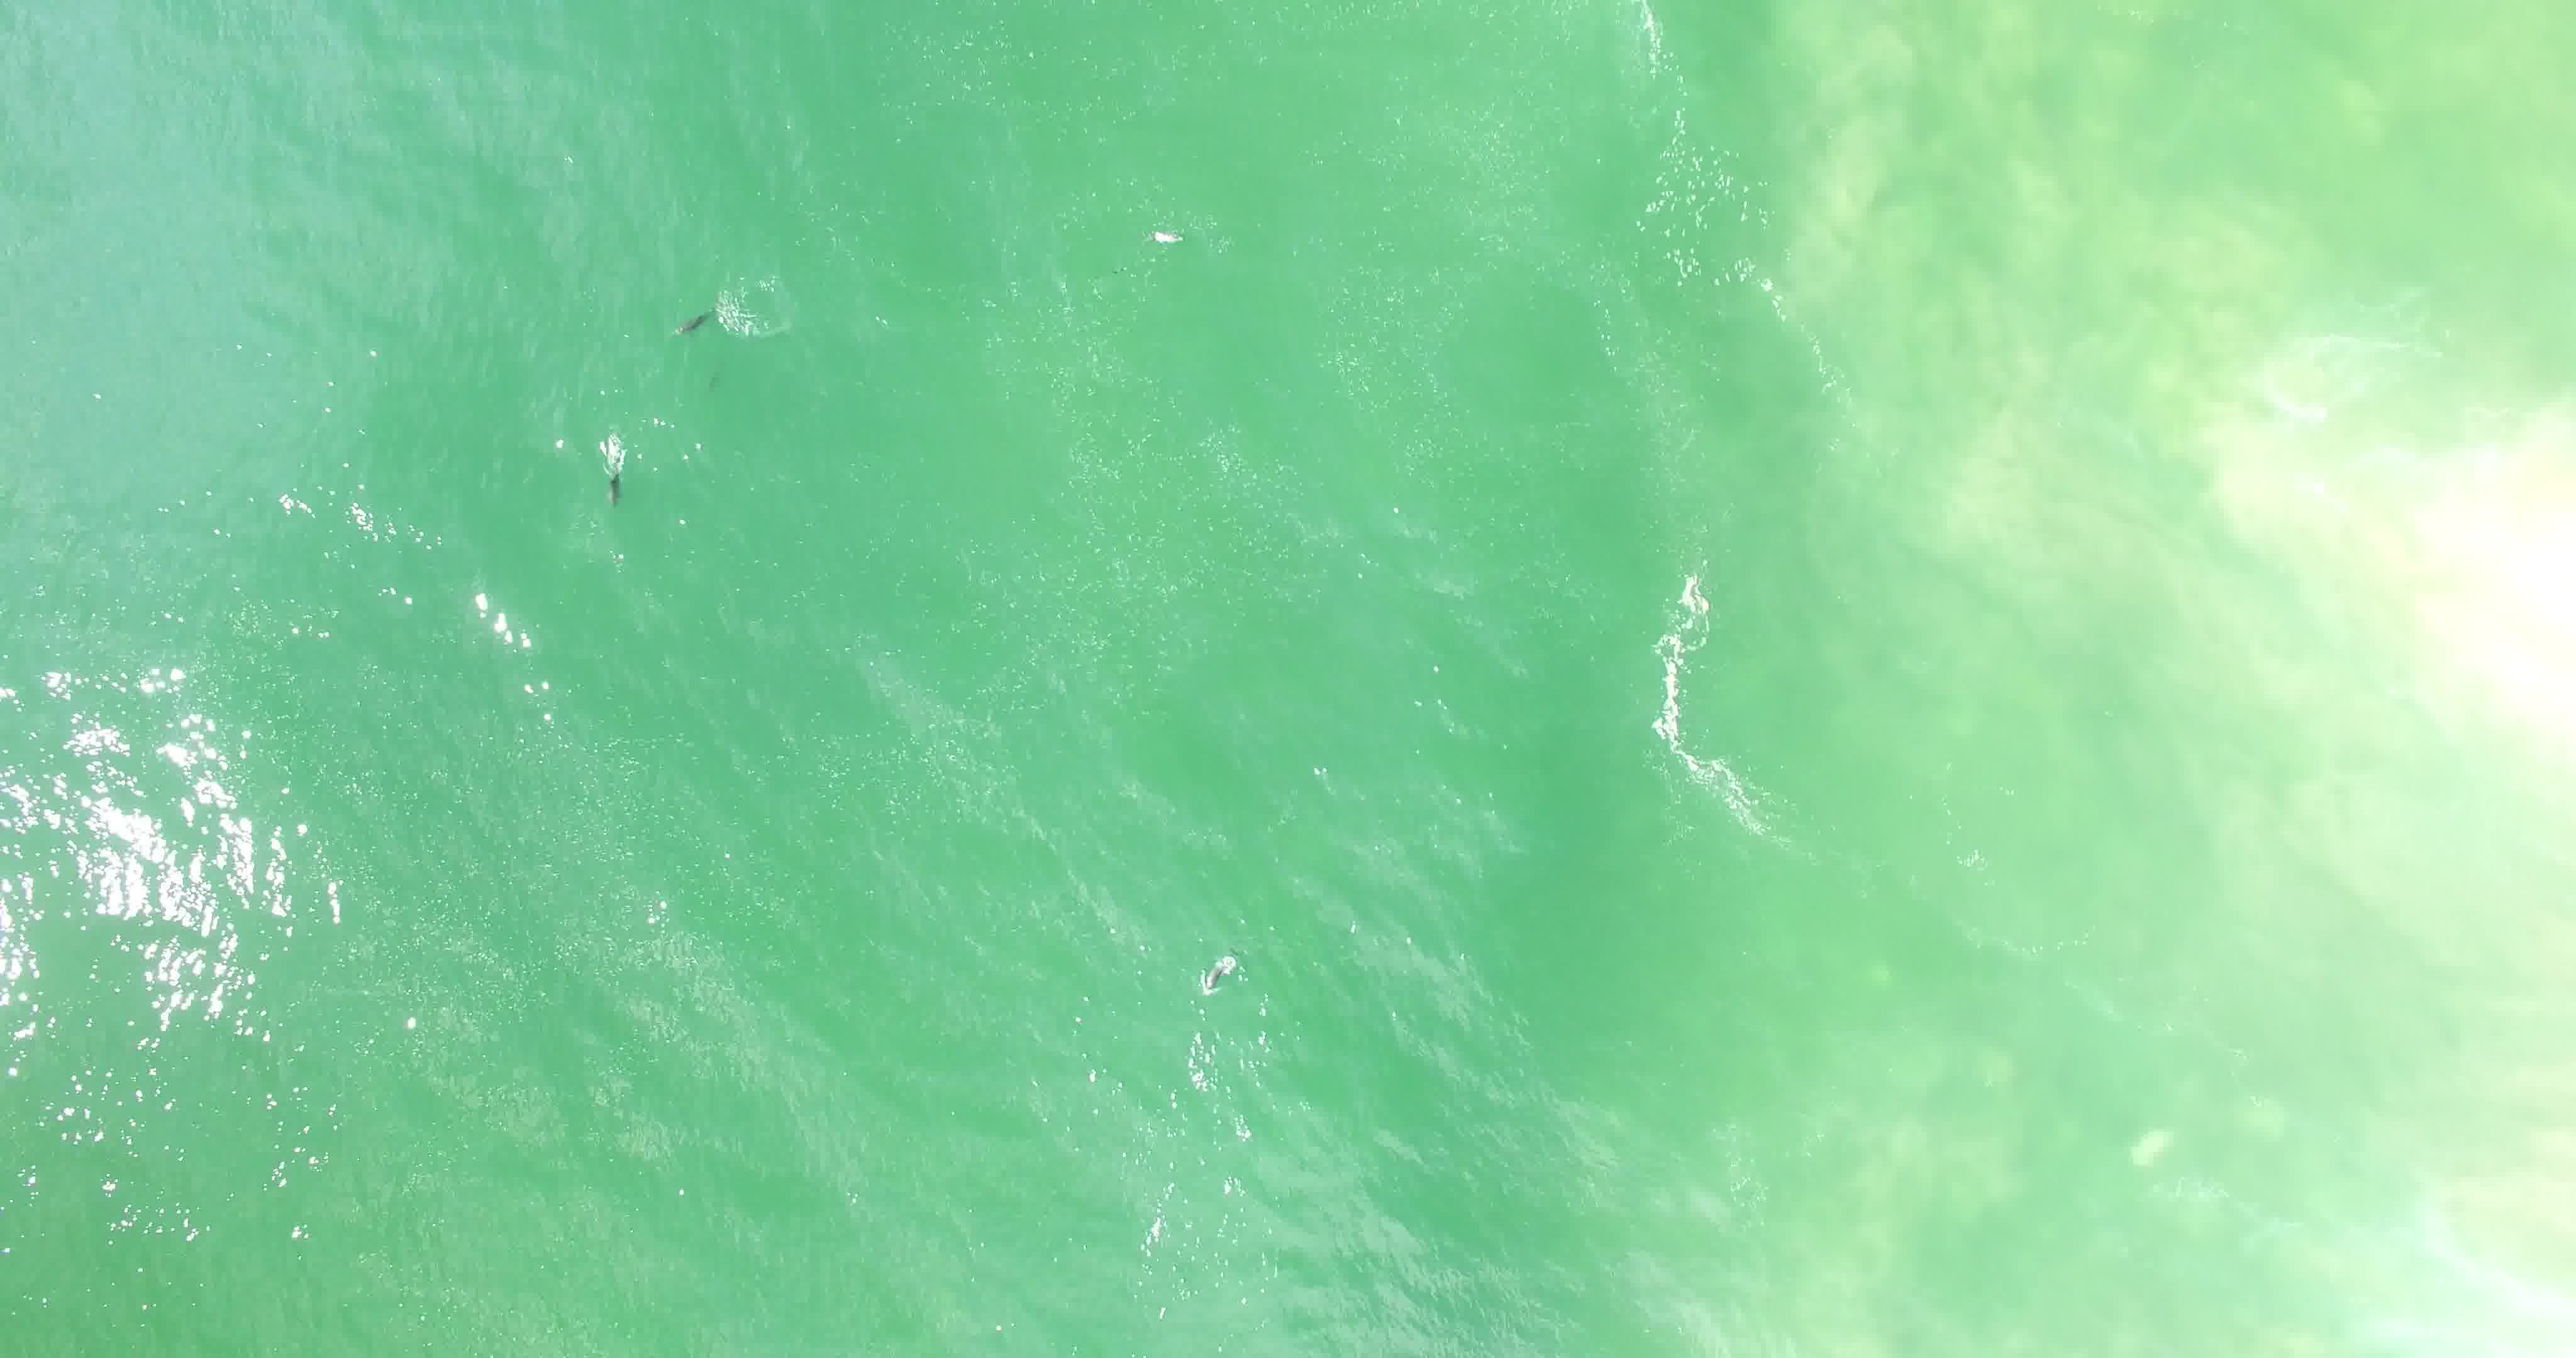dolphin: (574, 421, 630, 515), (653, 281, 727, 346), (1187, 949, 1247, 995)
